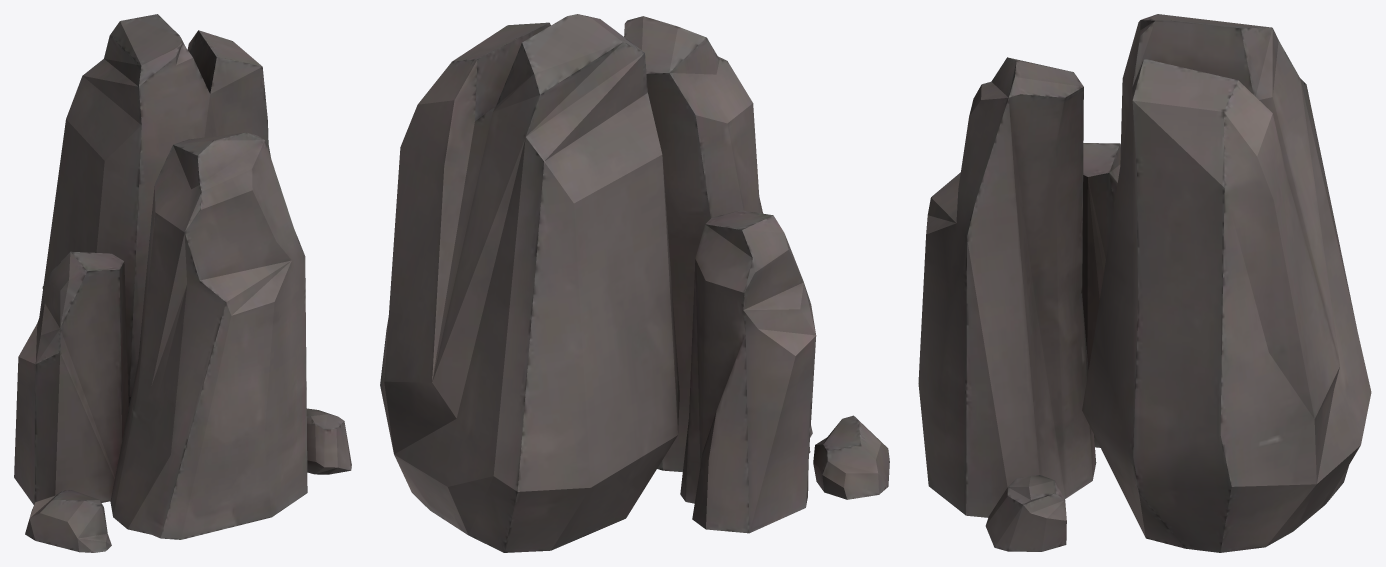
3 renders of one model, left to right at view 1: azimuth 30°, elevation 25°; view 2: azimuth 150°, elevation 25°; view 3: azimuth 270°, elevation 25°, orthographic. The views are drawn at different scales.
Visible parts, largest first — view 1: body0_model0_lod0_mesh0; view 2: body0_model0_lod0_mesh0; view 3: body0_model0_lod0_mesh0.
Part boxes in pixels (box(x1,y1,x2,y2)): body0_model0_lod0_mesh0: box(14, 14, 351, 552); body0_model0_lod0_mesh0: box(380, 14, 889, 552); body0_model0_lod0_mesh0: box(918, 14, 1371, 552).
Bounding box in the file's own units: 288 × 321 × 278.
1 material, 1 textured.
